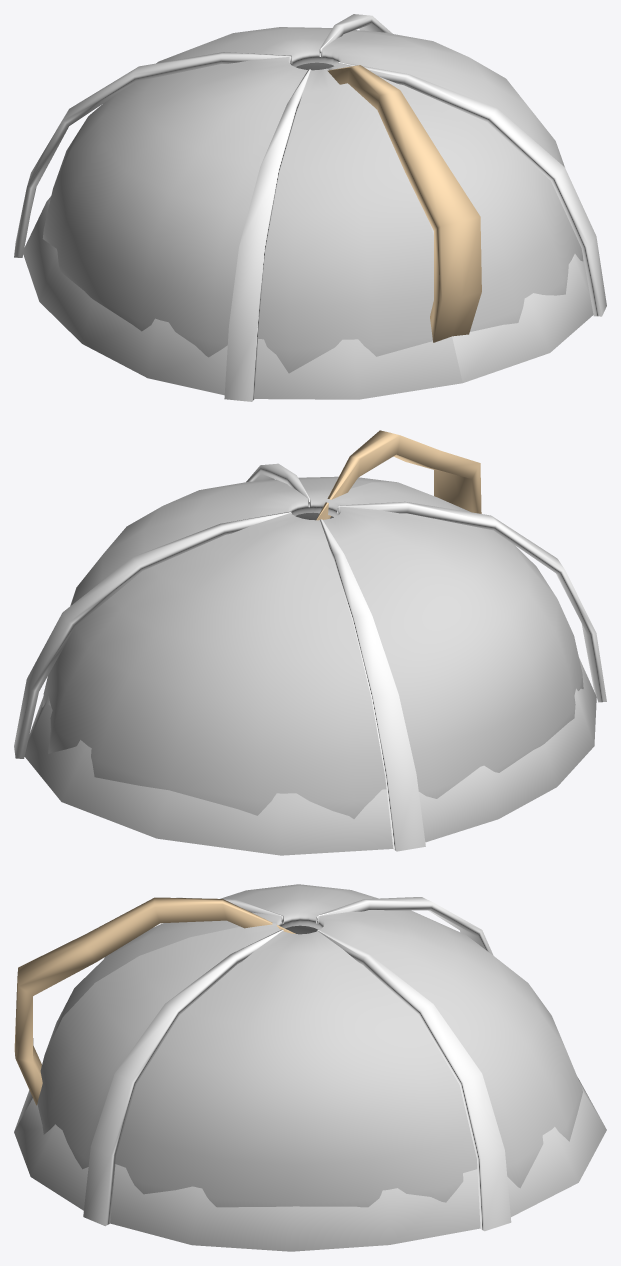
Rendered from helm-berserker-iron.glb.
The picture shows the model from 3 angles, top to bottom: view 1: azimuth 30°, elevation 25°; view 2: azimuth 150°, elevation 25°; view 3: azimuth 270°, elevation 25°; orthographic projection. The views are drawn at different scales.
Parts seen in each view (by area): view 1: helm-berserker-iron; view 2: helm-berserker-iron; view 3: helm-berserker-iron.
Part boxes in pixels (x1,y1,x2,y2): helm-berserker-iron: (14,14,606,401); helm-berserker-iron: (14,430,606,855); helm-berserker-iron: (14,884,606,1251).
Bounding box in the file's own units: 0.2554 × 0.1262 × 0.2849.
